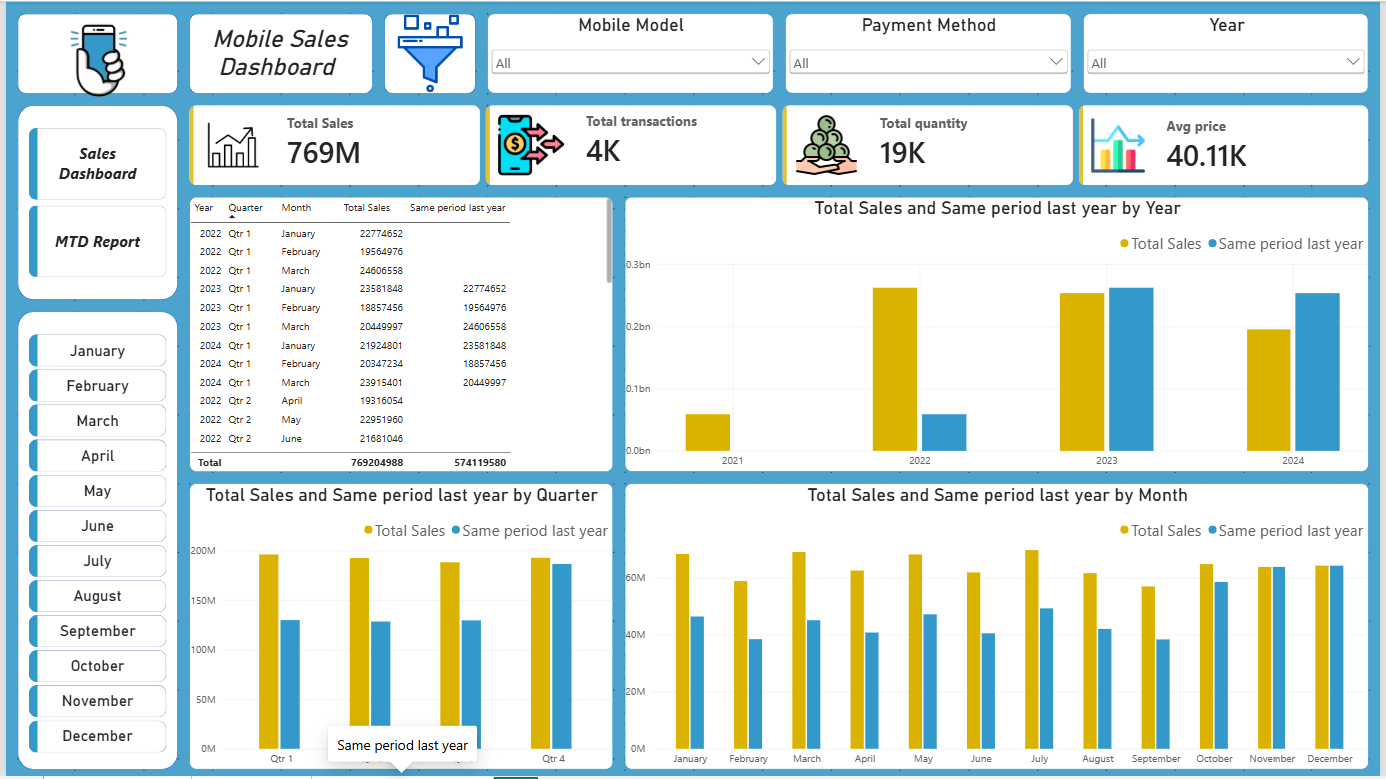

Layout of this report page (visuals, bound fields, positions):
{"tool":"powerbi","page":{"name":"Same period last year","canvas":[1920,1080],"ordinal":2},"visuals":[{"type":"shape","box":[16,16,224,112],"z":0},{"type":"shape","box":[16,432,224,640],"z":1000},{"type":"image","box":[64,16,128,128],"z":2000},{"type":"shape","box":[16,144,224,272],"z":3000},{"type":"cardVisual","fields":{"Data":["_Measures.Total_sales","_Measures.Total_transactions","_Measures.total_qunatity","_Measures.Avg_price"]},"box":[256,144,1648,112],"z":4000},{"type":"slicer","title":"Mobile Model","fields":{"Values":["Sheet1.Mobile Model"]},"box":[672,16,400,112],"z":5000},{"type":"slicer","title":"Year","fields":{"Values":["Calender_lookup.Date.Variation.Date Hierarchy.Year","Calender_lookup.Date.Variation.Date Hierarchy.Quarter","Calender_lookup.Date.Variation.Date Hierarchy.Month","Calender_lookup.Date.Variation.Date Hierarchy.Day"]},"box":[1504,16,400,112],"z":6000},{"type":"slicer","title":"Payment Method","fields":{"Values":["Sheet1.Payment Method"]},"box":[1088,16,400,112],"z":7000},{"type":"shape","box":[528,16,128,112],"z":8000},{"type":"image","box":[512,16,160,112],"z":9000},{"type":"shape","box":[256,16,256,112],"z":10000},{"type":"textbox","box":[288,32,224,96],"z":11000},{"type":"advancedSlicerVisual","fields":{"Values":["Calender_lookup.Date.Variation.Date Hierarchy.Month"]},"box":[32,464,192,592],"z":12000},{"type":"tableEx","fields":{"Values":["Calender_lookup.Date.Variation.Date Hierarchy.Year","Calender_lookup.Date.Variation.Date Hierarchy.Quarter","Calender_lookup.Date.Variation.Date Hierarchy.Month","_Measures.Total_sales","_Measures.Same_period_last_year"]},"box":[256,272,592,384],"z":13000},{"type":"lineClusteredColumnComboChart","fields":{"Category":["Calender_lookup.Date.Variation.Date Hierarchy.Year","Calender_lookup.Date.Variation.Date Hierarchy.Quarter","Calender_lookup.Date.Variation.Date Hierarchy.Month"],"Y":["_Measures.Total_sales","_Measures.Same_period_last_year"]},"box":[864,272,1040,384],"z":14000},{"type":"lineClusteredColumnComboChart","fields":{"Category":["Calender_lookup.Date.Variation.Date Hierarchy.Month"],"Y":["_Measures.Total_sales","_Measures.Same_period_last_year"]},"box":[864,672,1040,400],"z":15000},{"type":"lineClusteredColumnComboChart","fields":{"Category":["Calender_lookup.Date.Variation.Date Hierarchy.Quarter"],"Y":["_Measures.Total_sales","_Measures.Same_period_last_year"]},"box":[256,672,592,400],"z":15001},{"type":"pageNavigator","box":[32,176,192,208],"z":15002}]}

Visuals, with their boxes in screenshot pixels (x1, y1, x2, y2), scaled from the page's 1920x1080 canvas onto the 1386x779 screenshot:
shape: 12/12/173/92
shape: 12/312/173/773
image: 46/12/139/104
shape: 12/104/173/300
cardVisual - _Measures.Total_sales x _Measures.Total_transactions: 185/104/1374/185
"Mobile Model" slicer: 485/12/774/92
"Year" slicer: 1086/12/1374/92
"Payment Method" slicer: 785/12/1074/92
shape: 381/12/474/92
image: 370/12/485/92
shape: 185/12/370/92
textbox: 208/23/370/92
advancedSlicerVisual - Calender_lookup.Date.Variation.Date Hierarchy.Month: 23/335/162/762
tableEx - Calender_lookup.Date.Variation.Date Hierarchy.Year x Calender_lookup.Date.Variation.Date Hierarchy.Quarter: 185/196/612/473
lineClusteredColumnComboChart - Calender_lookup.Date.Variation.Date Hierarchy.Year x Calender_lookup.Date.Variation.Date Hierarchy.Quarter: 624/196/1374/473
lineClusteredColumnComboChart - Calender_lookup.Date.Variation.Date Hierarchy.Month x _Measures.Total_sales: 624/485/1374/773
lineClusteredColumnComboChart - Calender_lookup.Date.Variation.Date Hierarchy.Quarter x _Measures.Total_sales: 185/485/612/773
pageNavigator: 23/127/162/277
